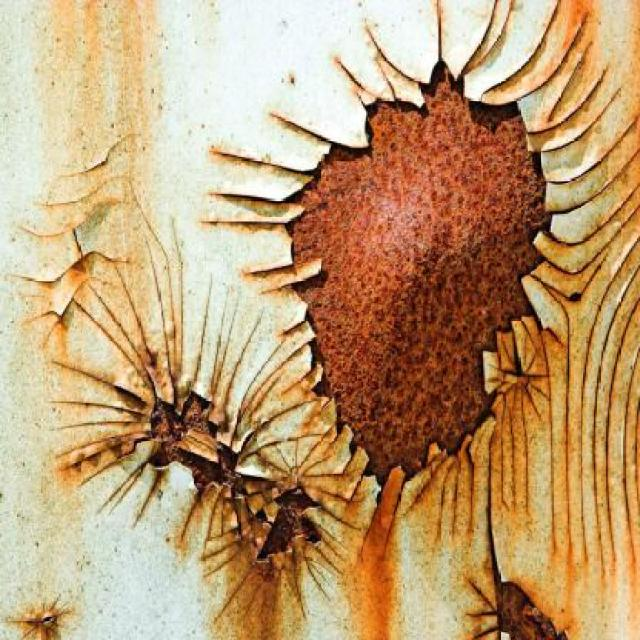corrosion: (56, 52, 613, 640)
